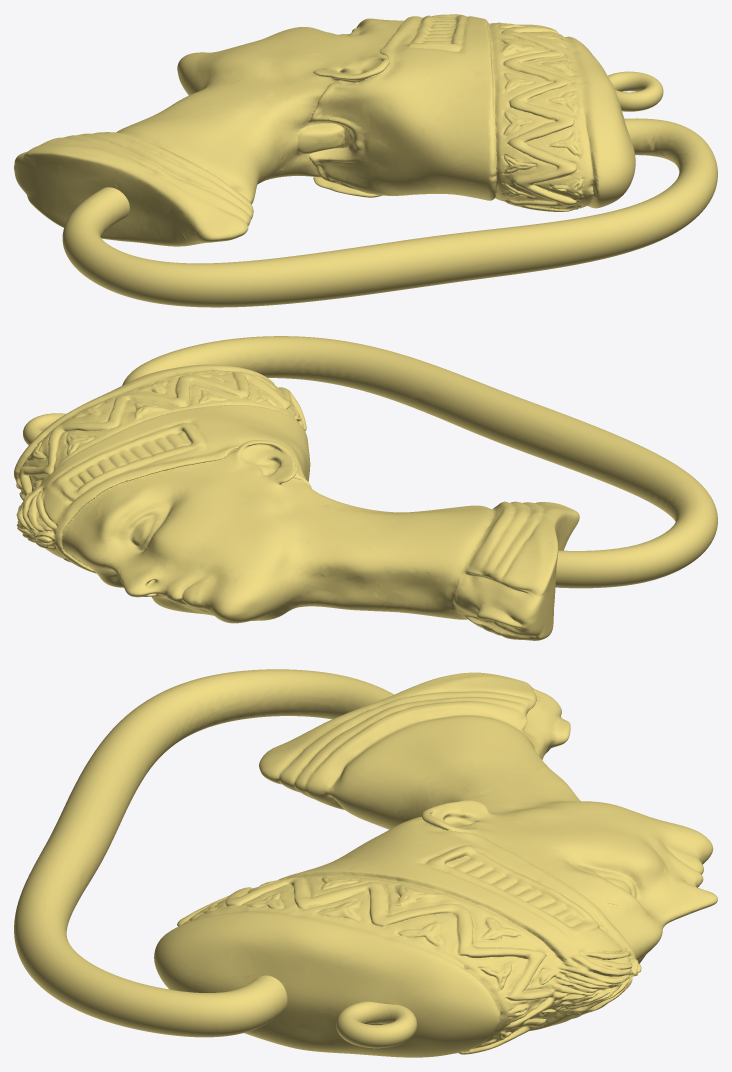
Rendered from ramses.glb.
3 renders of one model, top to bottom at view 1: azimuth 30°, elevation 25°; view 2: azimuth 150°, elevation 25°; view 3: azimuth 270°, elevation 25°, orthographic. The views are drawn at different scales.
Visible parts, largest first — view 1: Renderer Node; view 2: Renderer Node; view 3: Renderer Node.
Boxes of the visible parts, x1,y1,x2,y2 form: Renderer Node: (14,14,717,307); Renderer Node: (14,336,717,640); Renderer Node: (14,669,717,1057).
Size of the model in its own units: 29.59 by 5.94 by 24.54.
